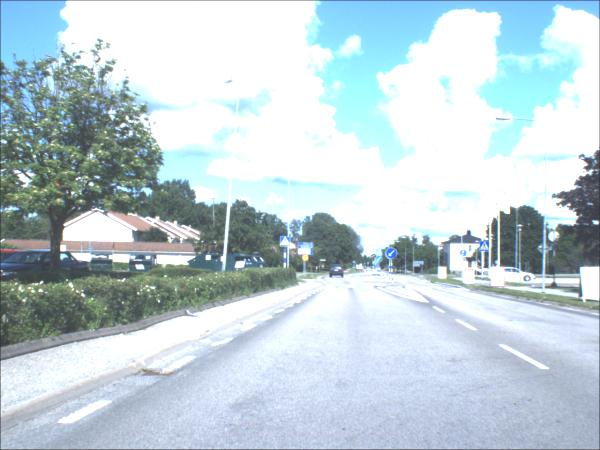50_SIGN: (302, 256, 309, 263)
PASS_RIGHT_SIDE: (386, 248, 397, 260), (376, 257, 383, 265)
PEDESTRIAN_CROSSING: (479, 242, 490, 253), (280, 238, 290, 248), (376, 250, 382, 257)
